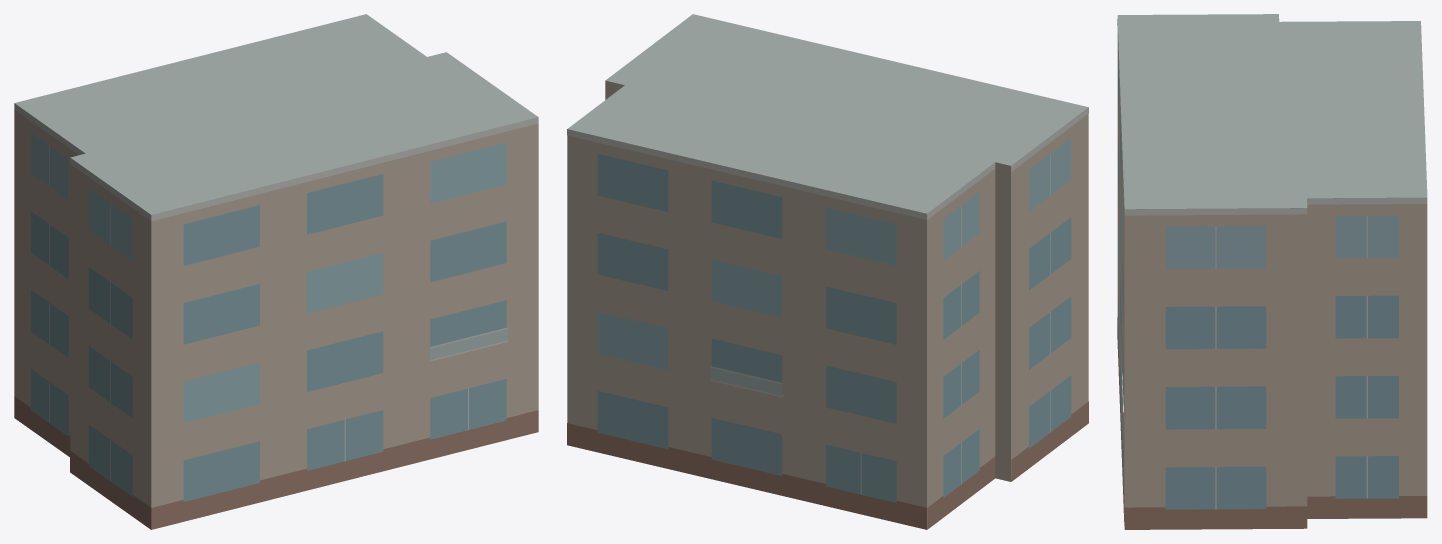
Rendered from residential-85d7c7d7-a45b-400f-94bd-829f0301a1af.glb.
3 views of the same model, side by side, from view 1: azimuth 30°, elevation 25°; view 2: azimuth 150°, elevation 25°; view 3: azimuth 270°, elevation 25° (orthographic).
Visible parts, largest first — view 1: residential-85d7c7d7-a45b-400f-94bd-829f0301a1af.tmp; view 2: residential-85d7c7d7-a45b-400f-94bd-829f0301a1af.tmp; view 3: residential-85d7c7d7-a45b-400f-94bd-829f0301a1af.tmp.
Boxes of the visible parts, left/top/right/bottom form: residential-85d7c7d7-a45b-400f-94bd-829f0301a1af.tmp: left=14, top=14, right=538, bottom=529; residential-85d7c7d7-a45b-400f-94bd-829f0301a1af.tmp: left=567, top=14, right=1088, bottom=529; residential-85d7c7d7-a45b-400f-94bd-829f0301a1af.tmp: left=1117, top=14, right=1427, bottom=529.
Bounding box in the file's own units: 15.93 × 12.2 × 10.7.
